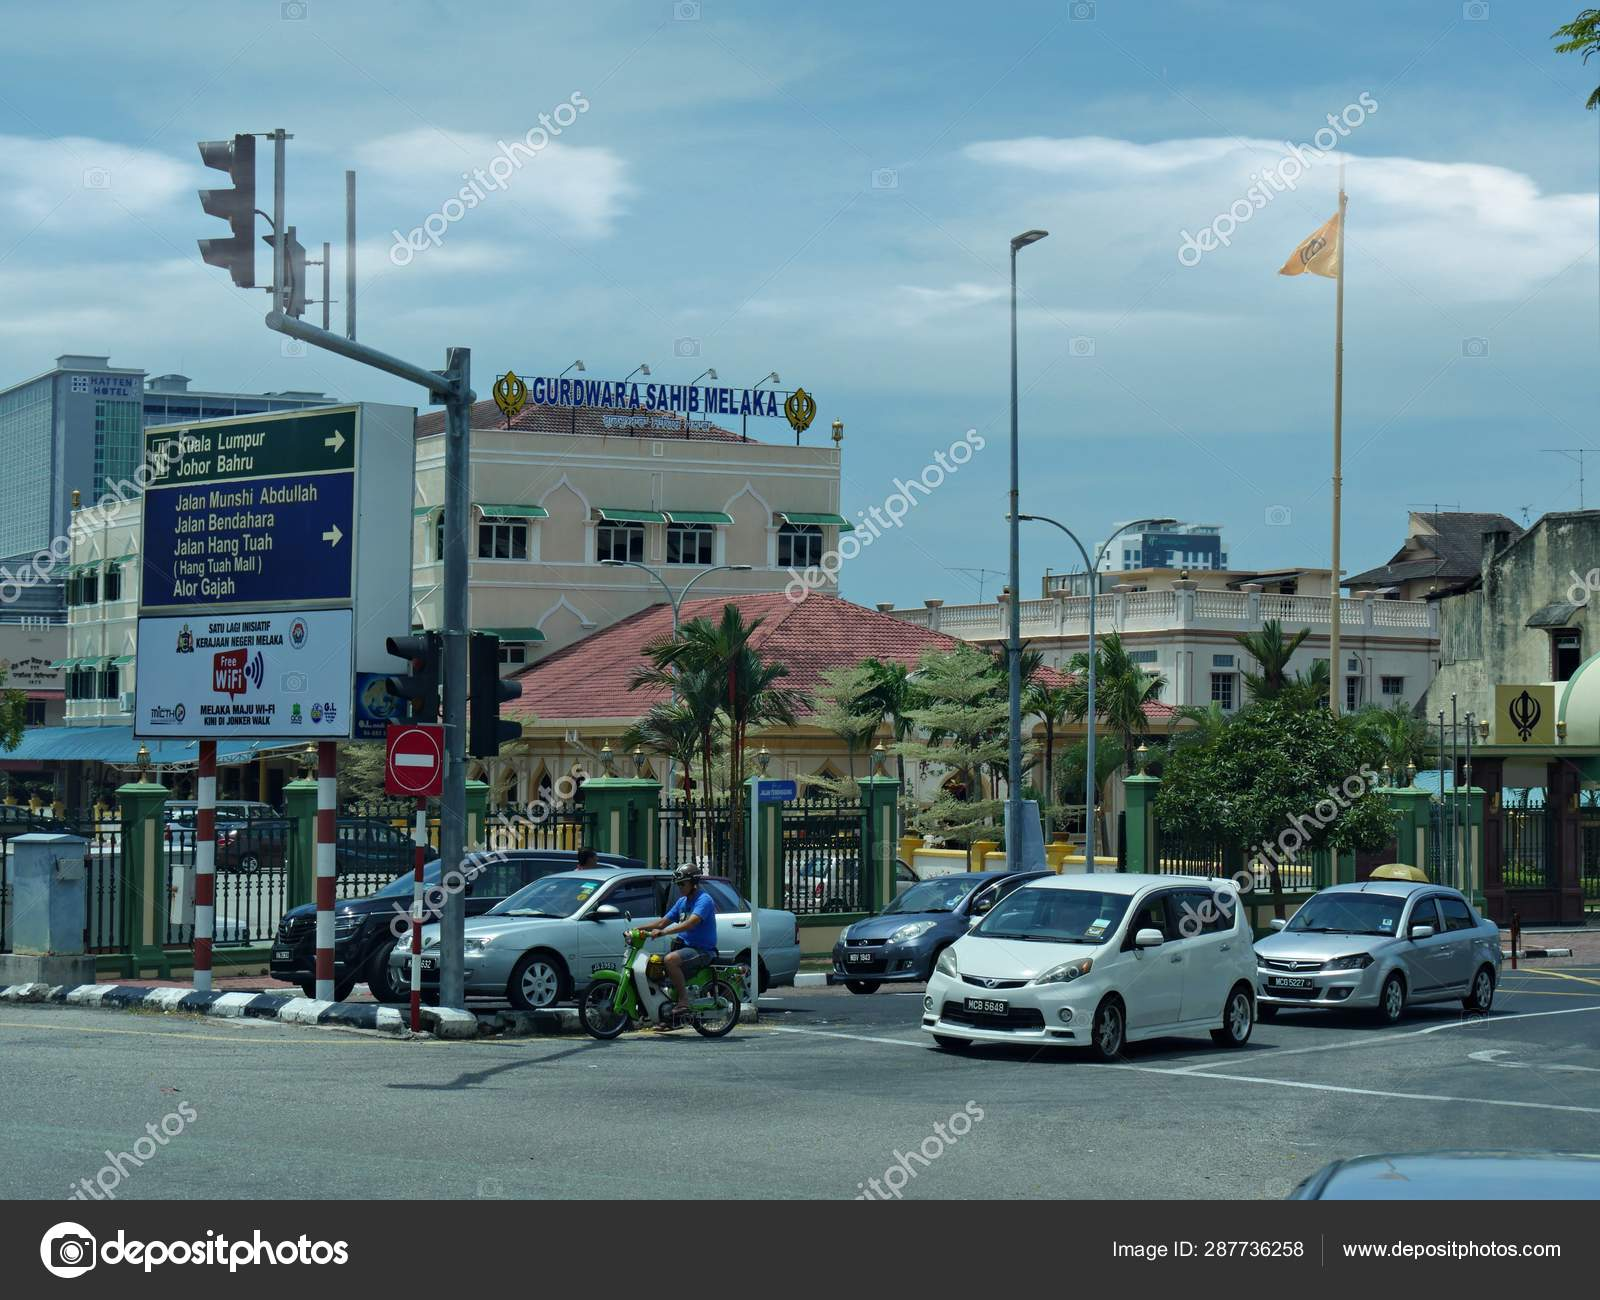Gurdwara: (174, 341, 878, 878)
